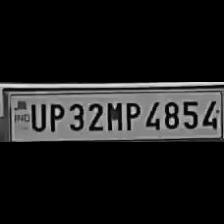2: (84, 98, 104, 132)
3: (65, 100, 84, 132)
4: (142, 97, 162, 130), (200, 97, 220, 129)
5: (180, 96, 198, 130)
8: (160, 98, 180, 130)
M: (104, 98, 122, 132)
P: (122, 98, 140, 132), (46, 100, 64, 132)
U: (28, 100, 44, 132)
